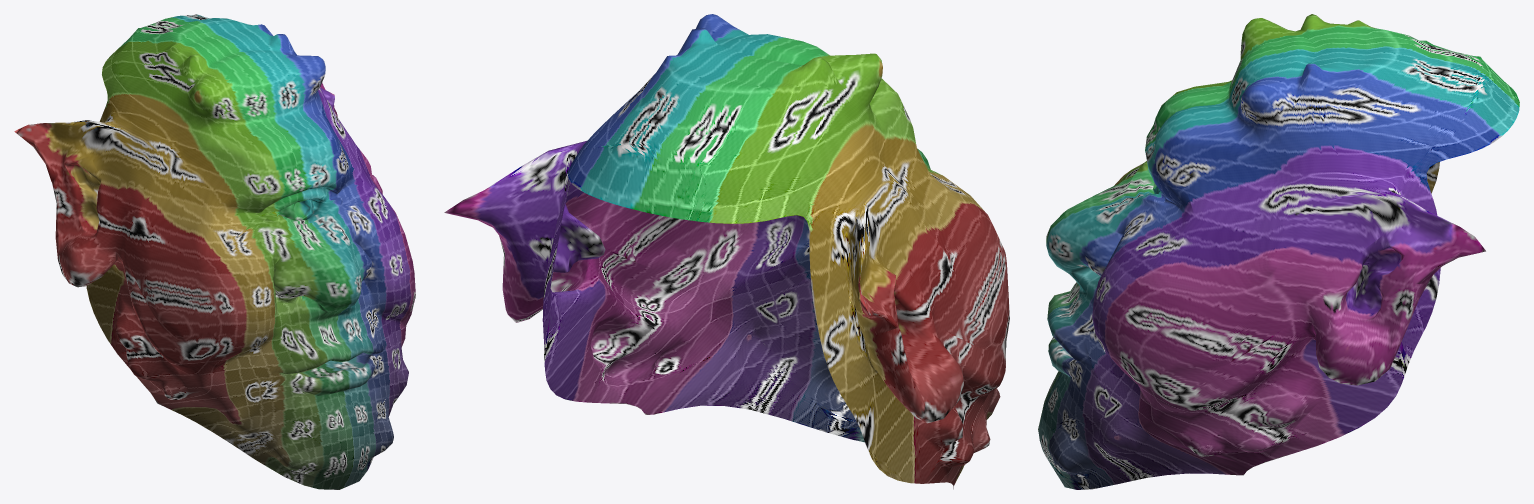
3 renders of one model, left to right at view 1: azimuth 30°, elevation 25°; view 2: azimuth 150°, elevation 25°; view 3: azimuth 270°, elevation 25°, orthographic. The views are drawn at different scales.
Visible parts, largest first — view 1: pMesh1; view 2: pMesh1; view 3: pMesh1.
Part boxes in pixels (bbox=[...]): pMesh1: bbox=[14, 14, 415, 489]; pMesh1: bbox=[444, 14, 1009, 489]; pMesh1: bbox=[1038, 14, 1519, 489].
Bounding box in the file's own units: 1.06 × 1.19 × 1.18.
1 material, 1 textured.
